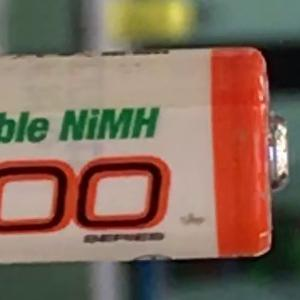NIMH: (49, 98, 169, 151)
